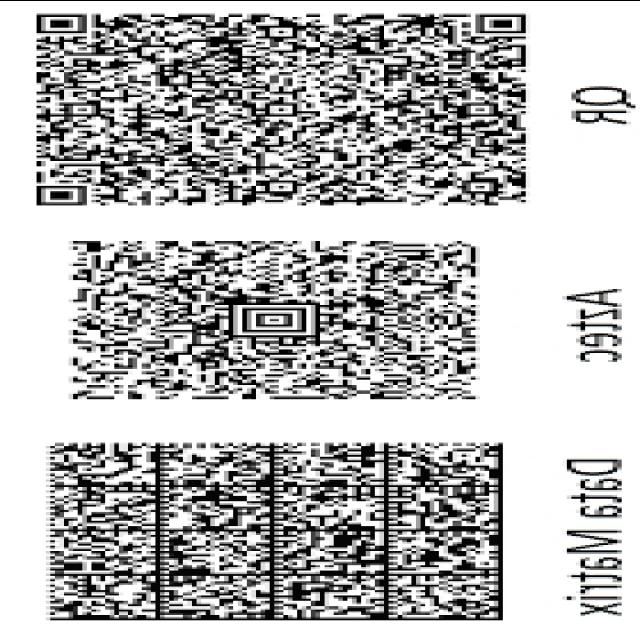DataMatrix: (27, 436, 526, 628)
